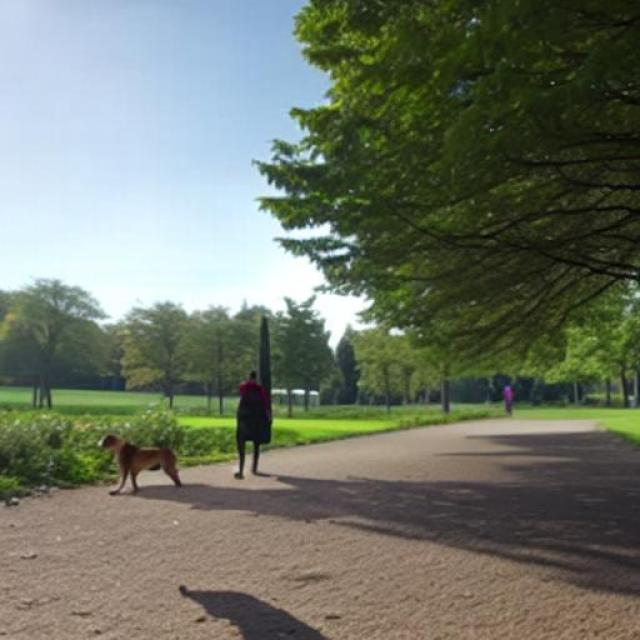Unleashed_Dog: (98, 432, 263, 496)
